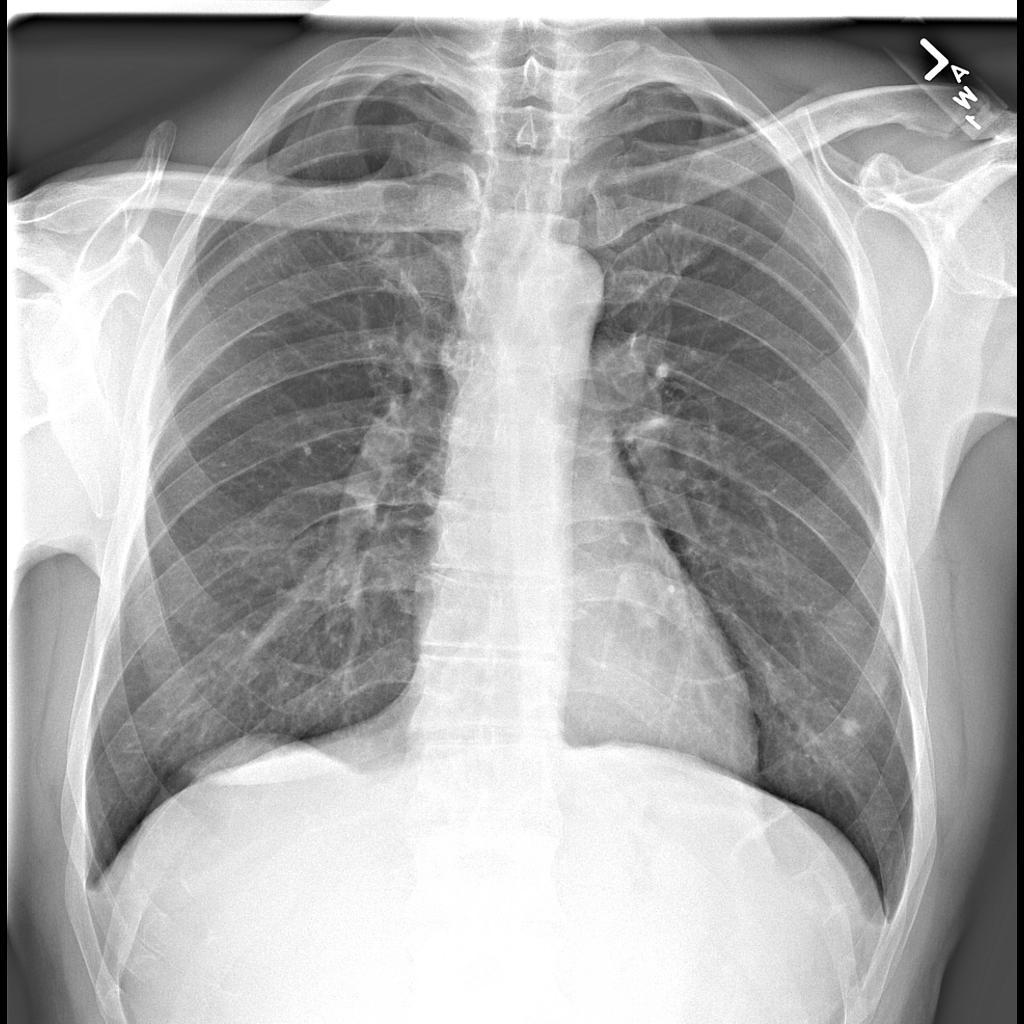Nodule: (840, 718, 865, 745)
